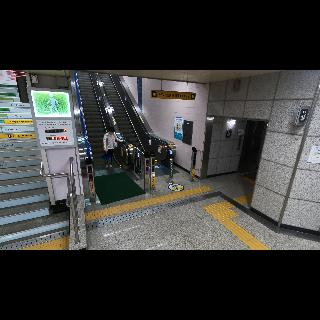normal: (102, 128, 126, 168)
